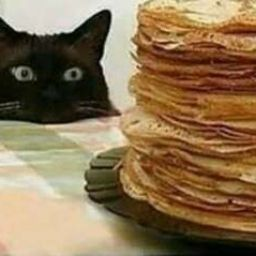cat: (1, 13, 125, 119)
